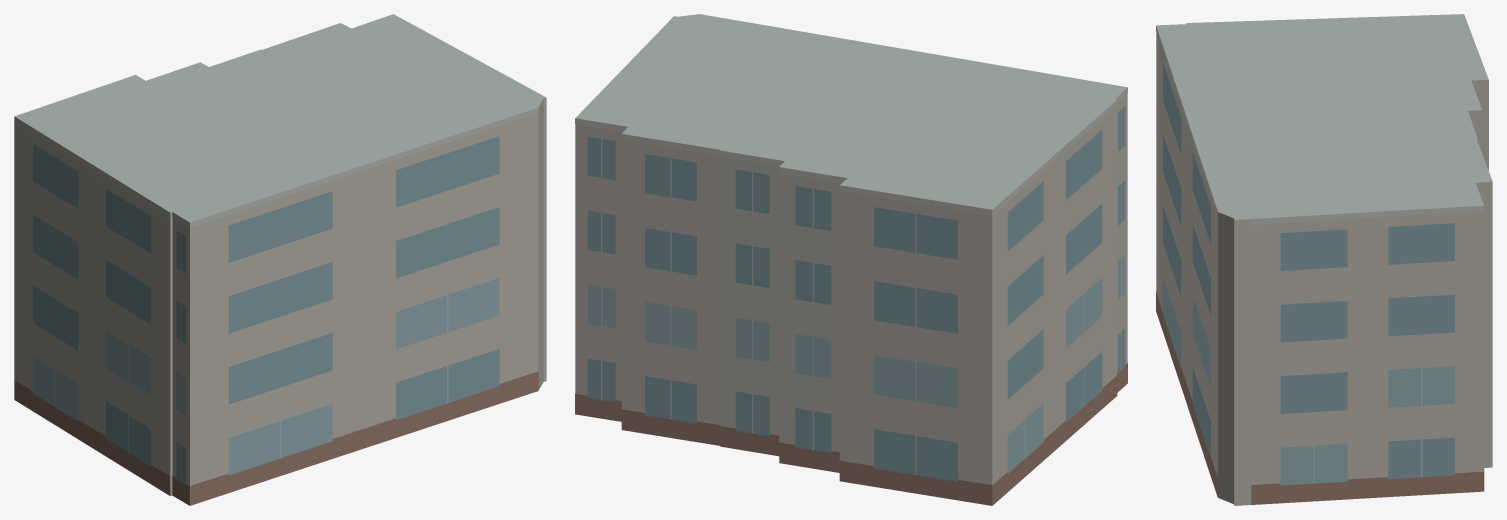
Rendered from survey-upis-33001222.glb.
The picture shows the model from 3 angles, left to right: view 1: azimuth 30°, elevation 25°; view 2: azimuth 150°, elevation 25°; view 3: azimuth 270°, elevation 25°; orthographic projection. The views are drawn at different scales.
Visible parts, largest first — view 1: survey-upis-33001222.tmp; view 2: survey-upis-33001222.tmp; view 3: survey-upis-33001222.tmp.
Part boxes in pixels (x1,y1,x2,y2): survey-upis-33001222.tmp: (14,14,546,505); survey-upis-33001222.tmp: (575,14,1127,505); survey-upis-33001222.tmp: (1156,14,1492,505).
Size of the model in its own units: 19.01 by 12.3 by 13.13.
